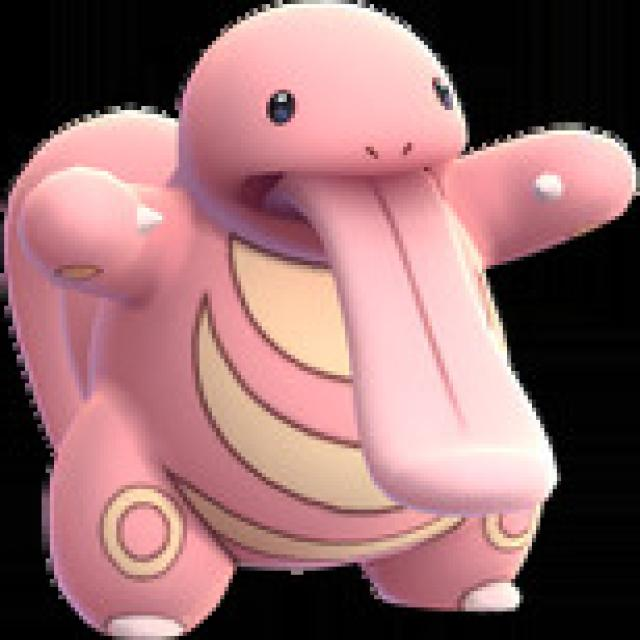Lickitung: (9, 0, 640, 632)
